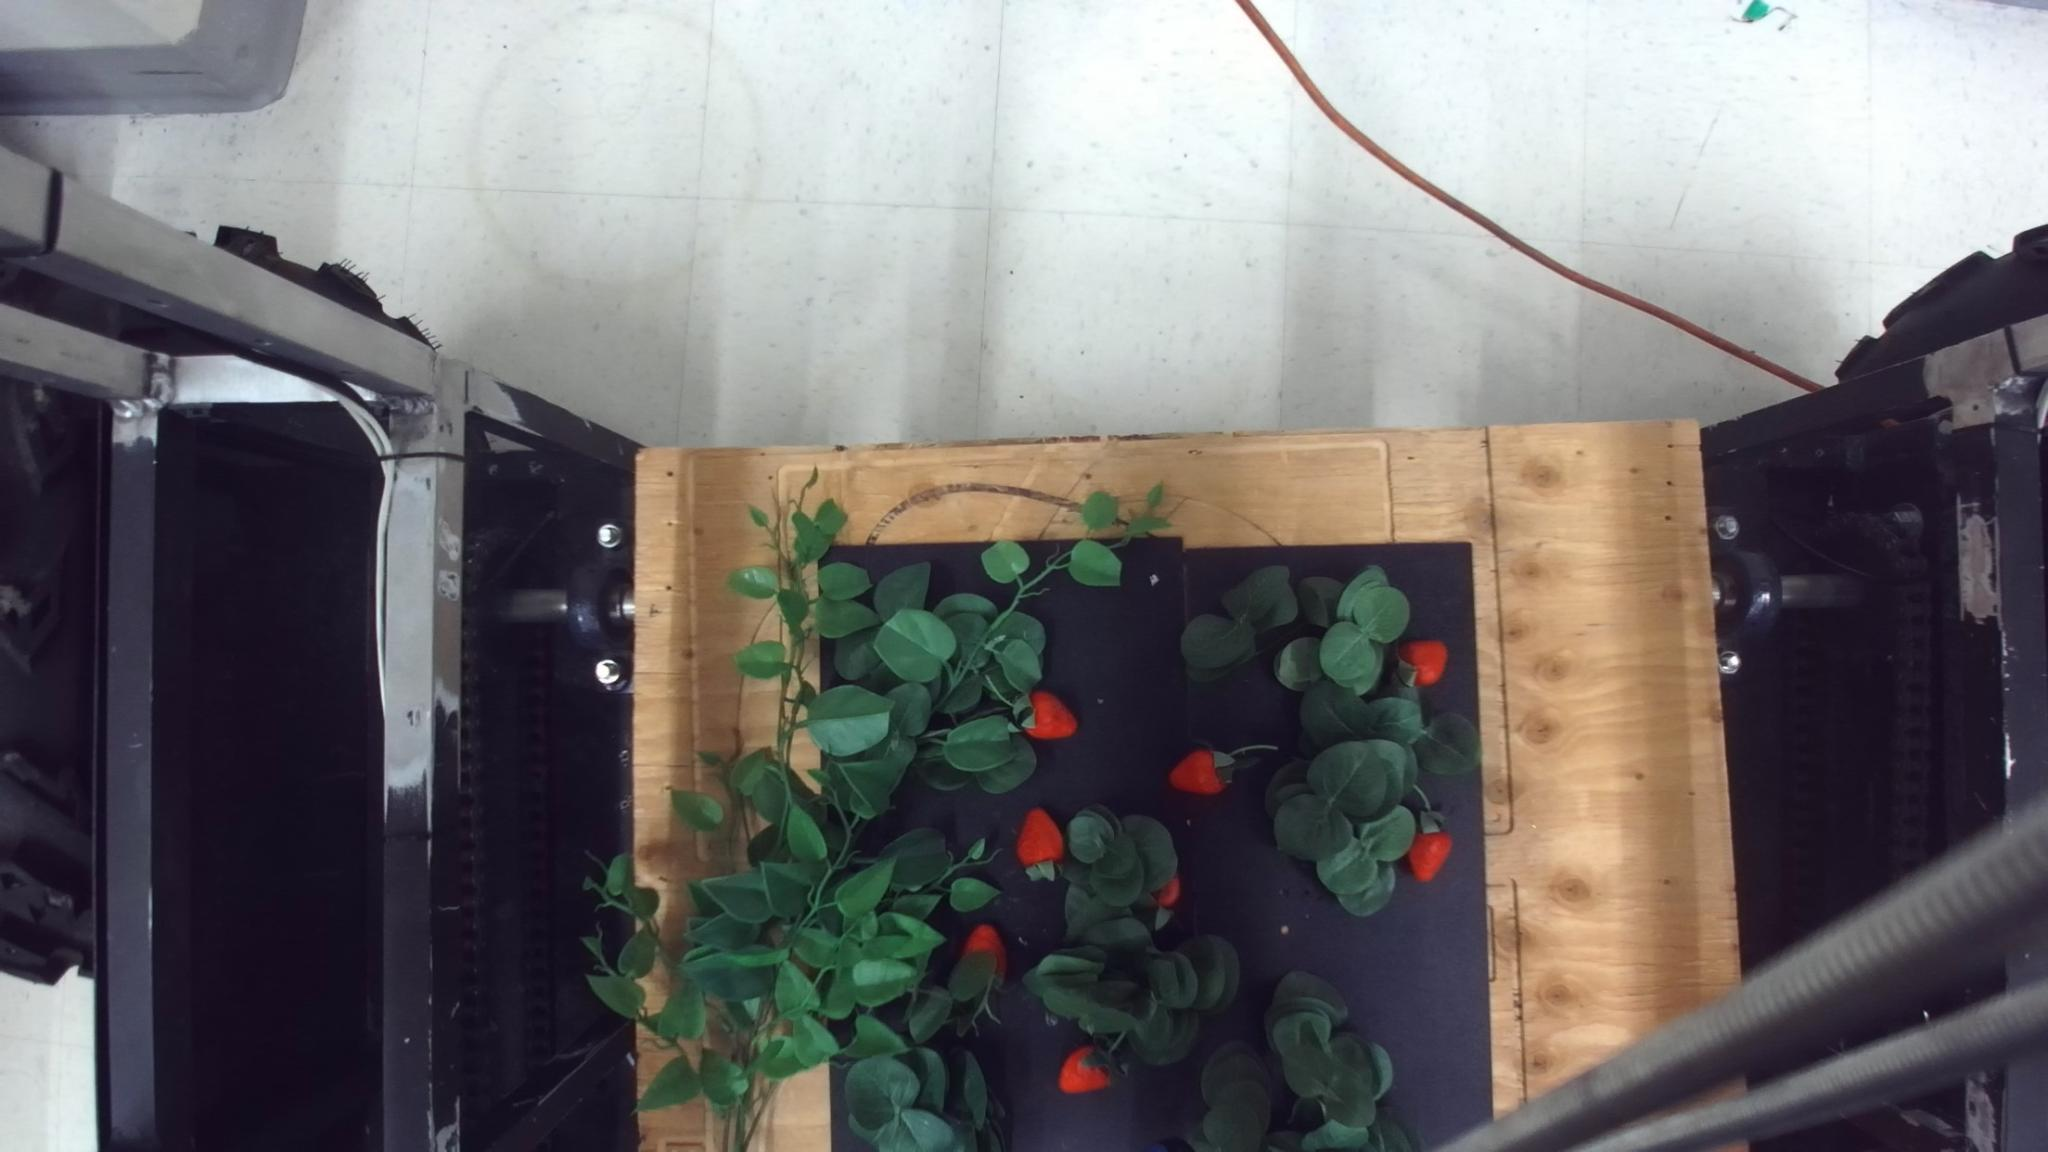mature: (1016, 806, 1065, 882), (1167, 747, 1234, 796), (959, 924, 1007, 990), (1020, 689, 1077, 740), (1056, 1044, 1111, 1094), (1397, 639, 1447, 688), (1407, 828, 1452, 882), (1149, 873, 1182, 909)
